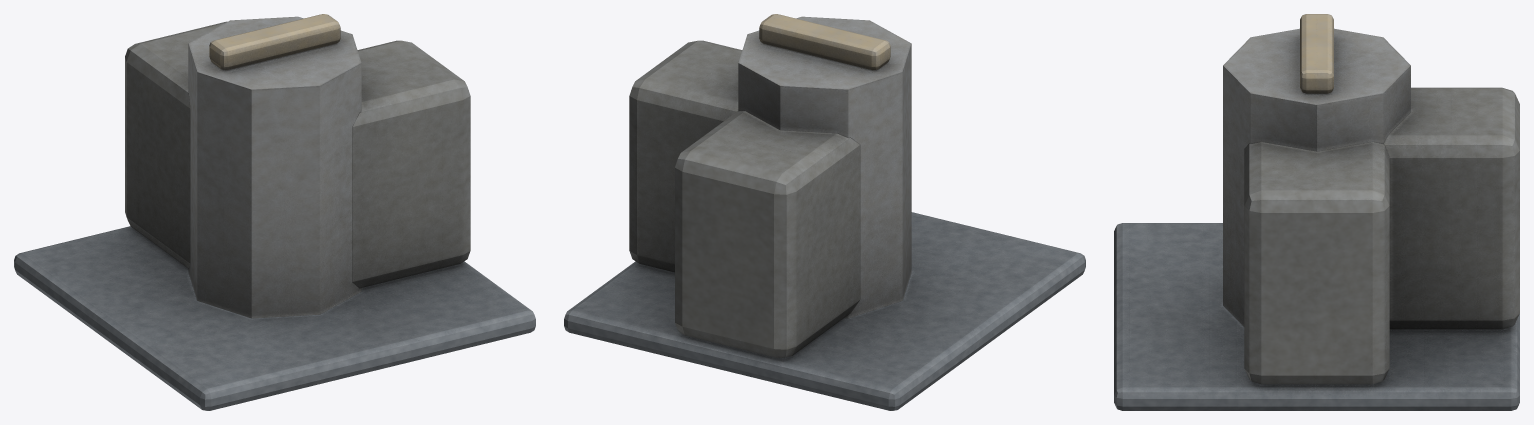
File: com_wall_corner.glb
The picture shows the model from 3 angles, left to right: view 1: azimuth 30°, elevation 25°; view 2: azimuth 150°, elevation 25°; view 3: azimuth 270°, elevation 25°; orthographic projection. The views are drawn at different scales.
Parts seen in each view (by area): view 1: com_wall_corner; view 2: com_wall_corner; view 3: com_wall_corner.
Part boxes in pixels (left/top/right/bottom): com_wall_corner: left=14, top=14, right=535, bottom=410; com_wall_corner: left=564, top=14, right=1085, bottom=410; com_wall_corner: left=1114, top=14, right=1519, bottom=410.
Size of the model in its own units: 0.95 by 0.74 by 0.95.
Materials: 1 (1 with a texture image).
